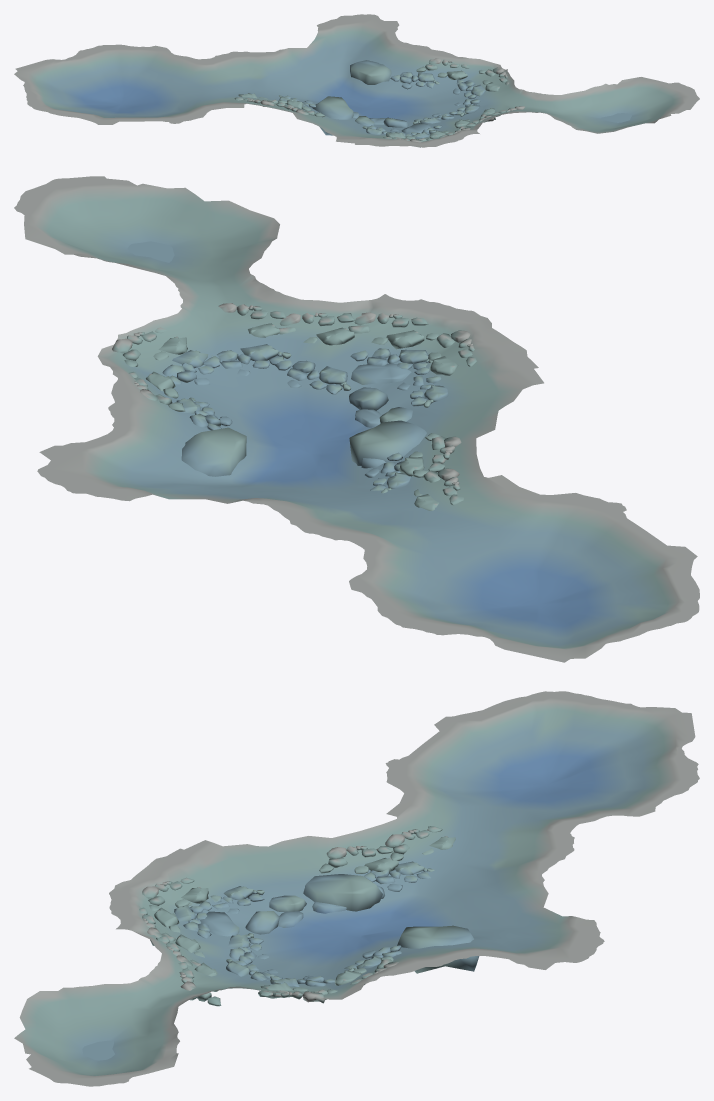
3 views of the same model, one above another, from view 1: azimuth 30°, elevation 25°; view 2: azimuth 150°, elevation 25°; view 3: azimuth 270°, elevation 25° (orthographic). The views are drawn at different scales.
Parts seen in each view (by area): view 1: G:\FFXIV-MapTools\exports\y6f3\bg\ex5\02_ykt_y6\fld\y6f3\bgp (×3); view 2: G:\FFXIV-MapTools\exports\y6f3\bg\ex5\02_ykt_y6\fld\y6f3\bgp (×3); view 3: G:\FFXIV-MapTools\exports\y6f3\bg\ex5\02_ykt_y6\fld\y6f3\bgp (×3).
Boxes of the visible parts, box(x1,y1,x2,y2) form: G:\FFXIV-MapTools\exports\y6f3\bg\ex5\02_ykt_y6\fld\y6f3\bgp (×3): box(14, 14, 699, 147); G:\FFXIV-MapTools\exports\y6f3\bg\ex5\02_ykt_y6\fld\y6f3\bgp (×3): box(14, 176, 699, 662); G:\FFXIV-MapTools\exports\y6f3\bg\ex5\02_ykt_y6\fld\y6f3\bgp (×3): box(14, 691, 699, 1086).
Bounding box in the file's own units: 408 × 19.97 × 299.
